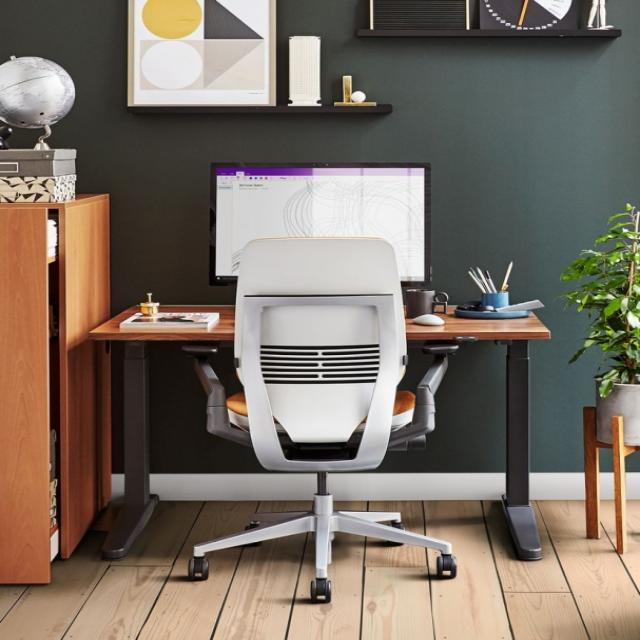chair: (181, 236, 460, 604)
